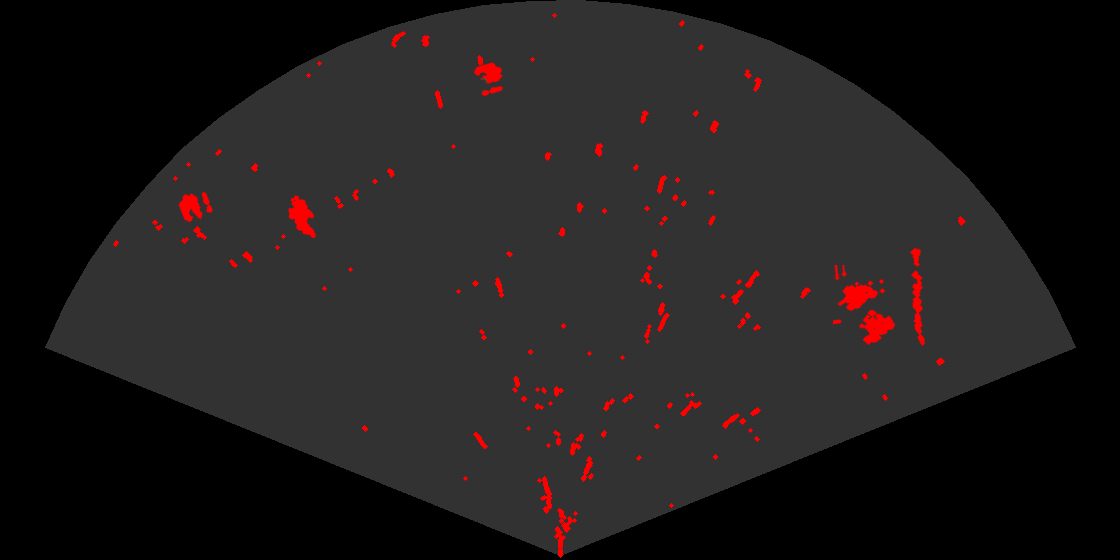AUV: (287, 194, 318, 240)
ball: (177, 190, 214, 224), (472, 61, 505, 98)
cage: (833, 265, 897, 347)
chain: (908, 246, 927, 346)
